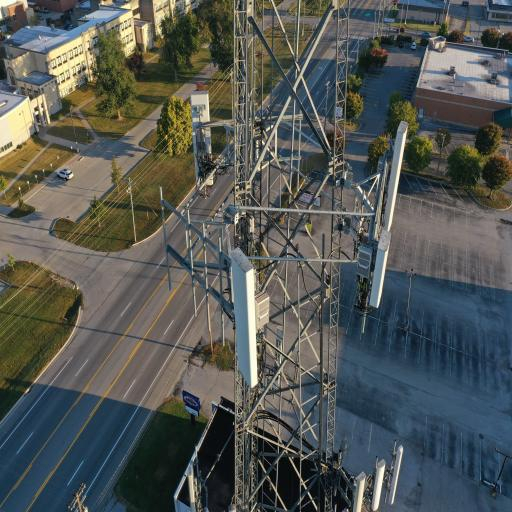supporting_tower: (226, 0, 352, 512)
